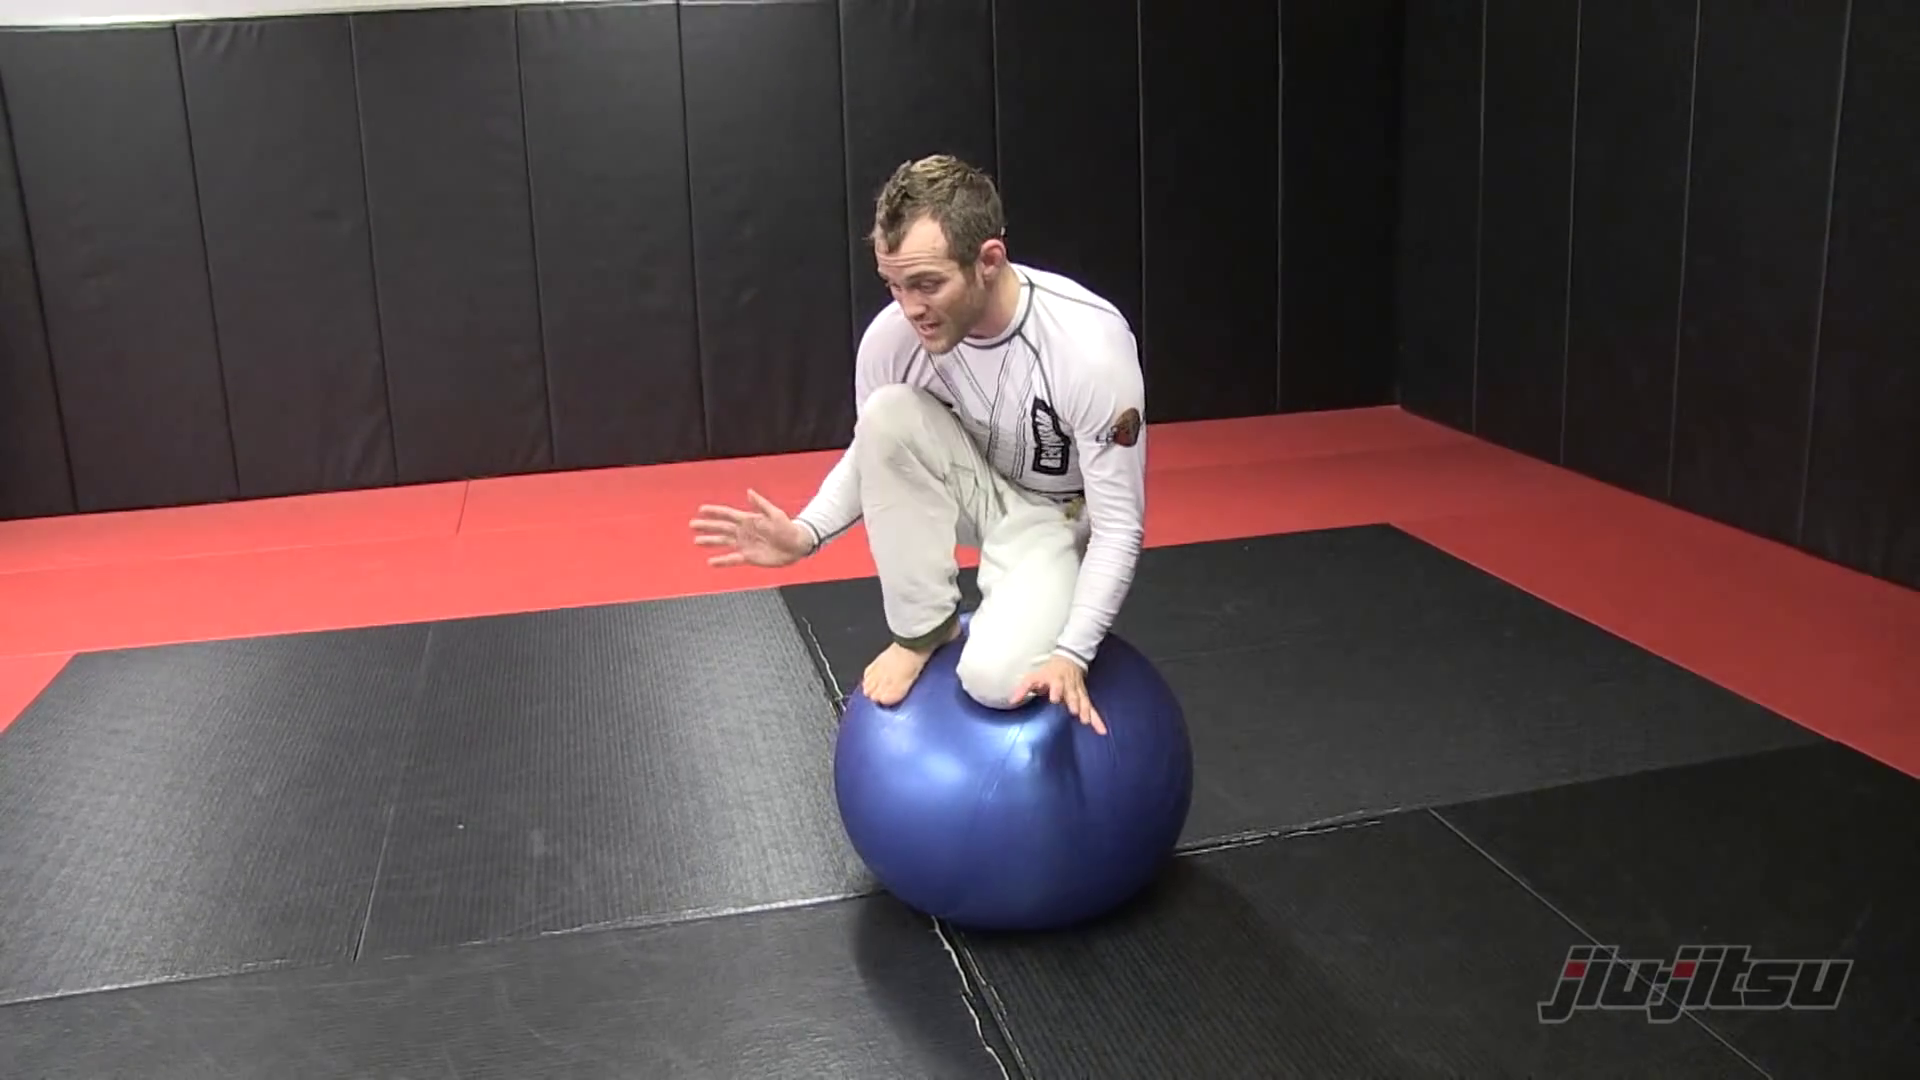yogaball: (827, 611, 1215, 951)
